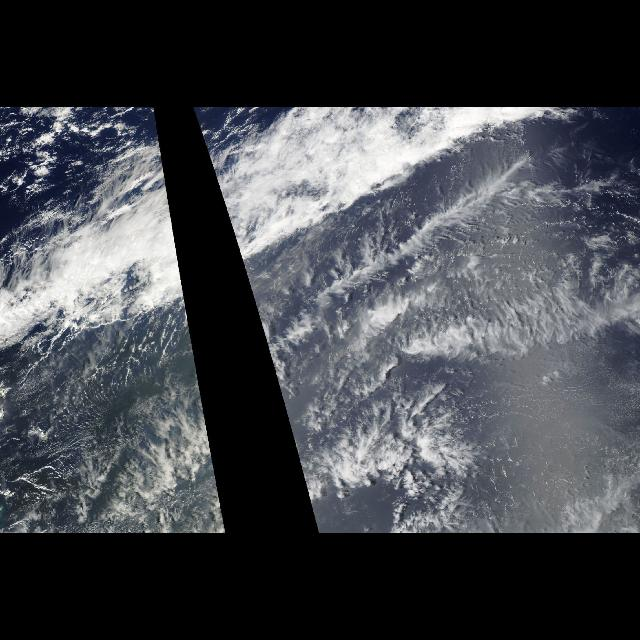Fish: (272, 200, 568, 360)
Sugar: (440, 342, 636, 530), (13, 376, 181, 506)
